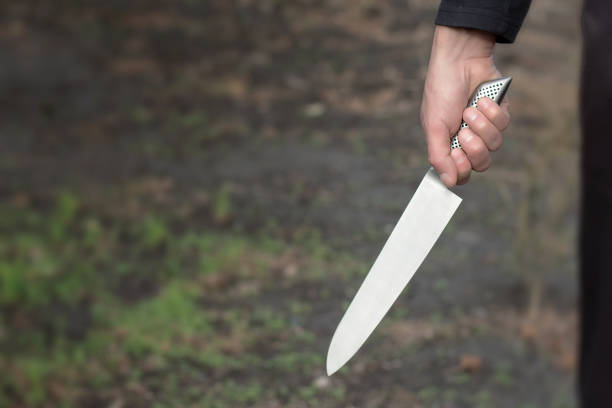knife: (323, 75, 514, 379)
